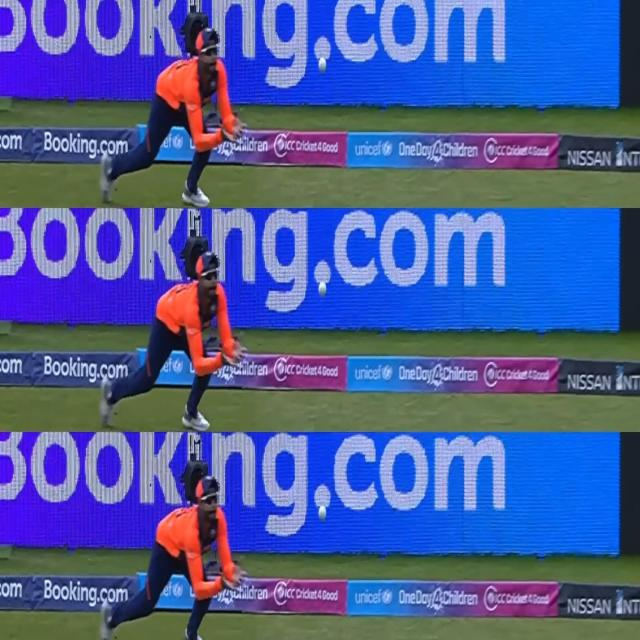ball: (315, 279, 331, 303), (316, 505, 331, 524), (316, 56, 326, 70)
